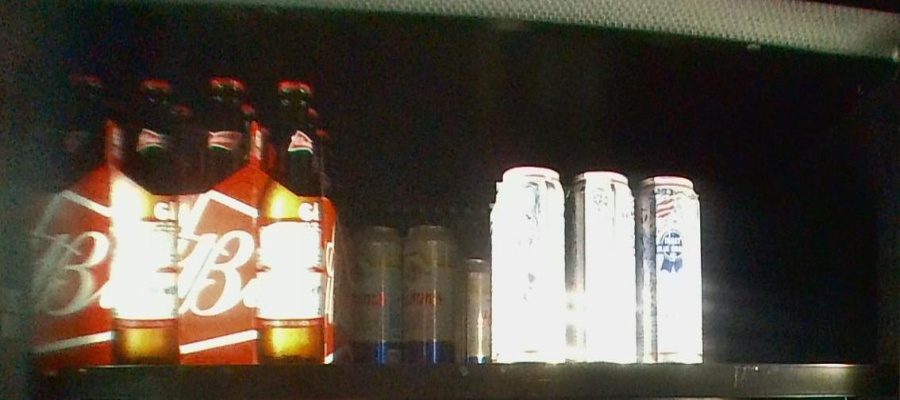bottle: (173, 75, 335, 364), (22, 70, 173, 361), (494, 167, 701, 366), (352, 223, 460, 362), (463, 252, 490, 366)
